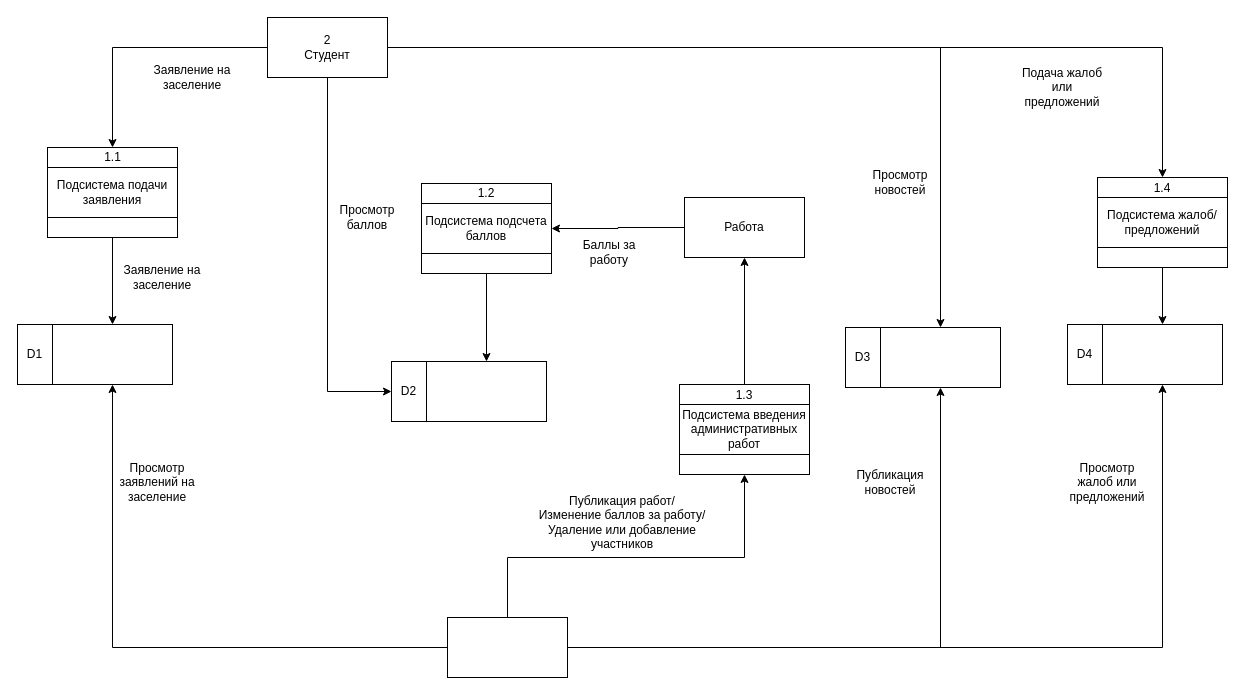
Image size: 1245x695. Some labels were removed from this diagram. Each missing label, with the centre of its shape:
"1 Администратор" goes at (x=507, y=647).
"База данных студентов" goes at (x=486, y=391).
"Документы студента" goes at (x=112, y=354).
"Жалобы/Предложения" goes at (x=1162, y=354).
"Новости" goes at (x=940, y=357).
